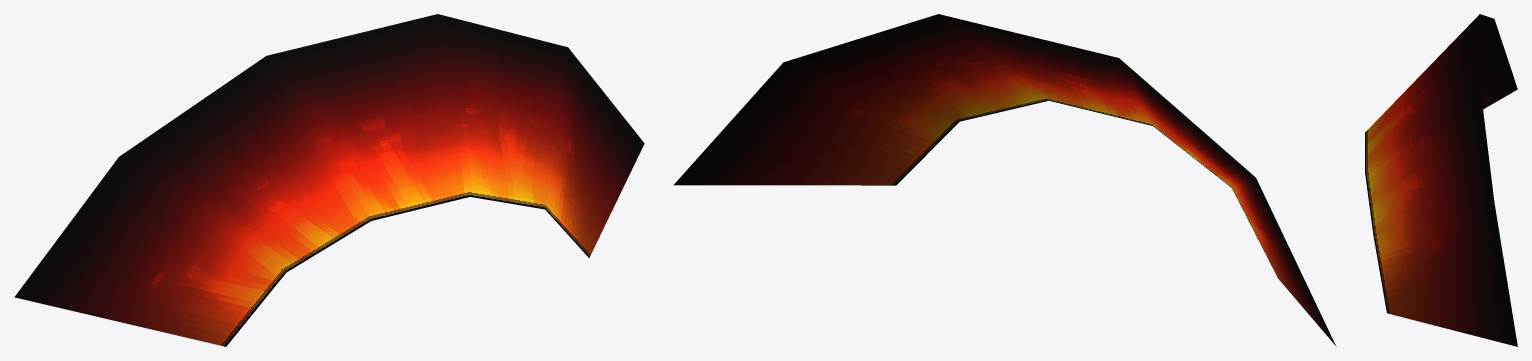
File: Model_Q_ChongJiBo.FBX
3 renders of one model, left to right at view 1: azimuth 30°, elevation 25°; view 2: azimuth 150°, elevation 25°; view 3: azimuth 270°, elevation 25°, orthographic. The views are drawn at different scales.
Parts seen in each view (by area): view 1: Model_Q_ChongJiBo; view 2: Model_Q_ChongJiBo; view 3: Model_Q_ChongJiBo.
Boxes of the visible parts, x1,y1,x2,y2 form: Model_Q_ChongJiBo: (14, 14, 644, 346); Model_Q_ChongJiBo: (673, 14, 1336, 346); Model_Q_ChongJiBo: (1365, 14, 1517, 346).
Bounding box in the file's own units: 4.37 × 1.5 × 1.1.
